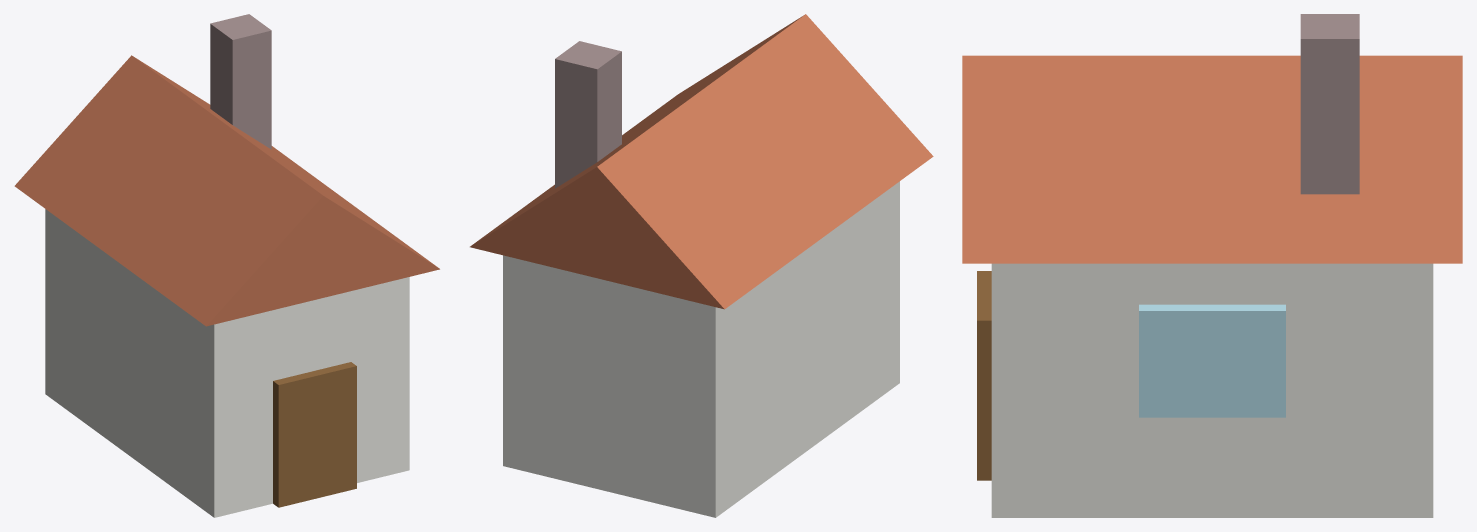
File: house-geminiproagent.glb
The picture shows the model from 3 angles, left to right: view 1: azimuth 30°, elevation 25°; view 2: azimuth 150°, elevation 25°; view 3: azimuth 270°, elevation 25°; orthographic projection. The views are drawn at different scales.
Parts seen in each view (by area): view 1: Village_House; view 2: Village_House; view 3: Village_House.
Boxes of the visible parts, bbox=[...] form: Village_House: bbox=[14, 14, 439, 517]; Village_House: bbox=[470, 14, 933, 517]; Village_House: bbox=[962, 14, 1462, 517].
Bounding box in the file's own units: 2.4 × 3.5 × 3.4.
